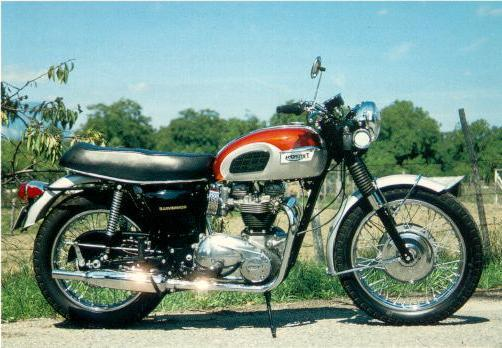Motorcycle: (5, 51, 501, 333)
